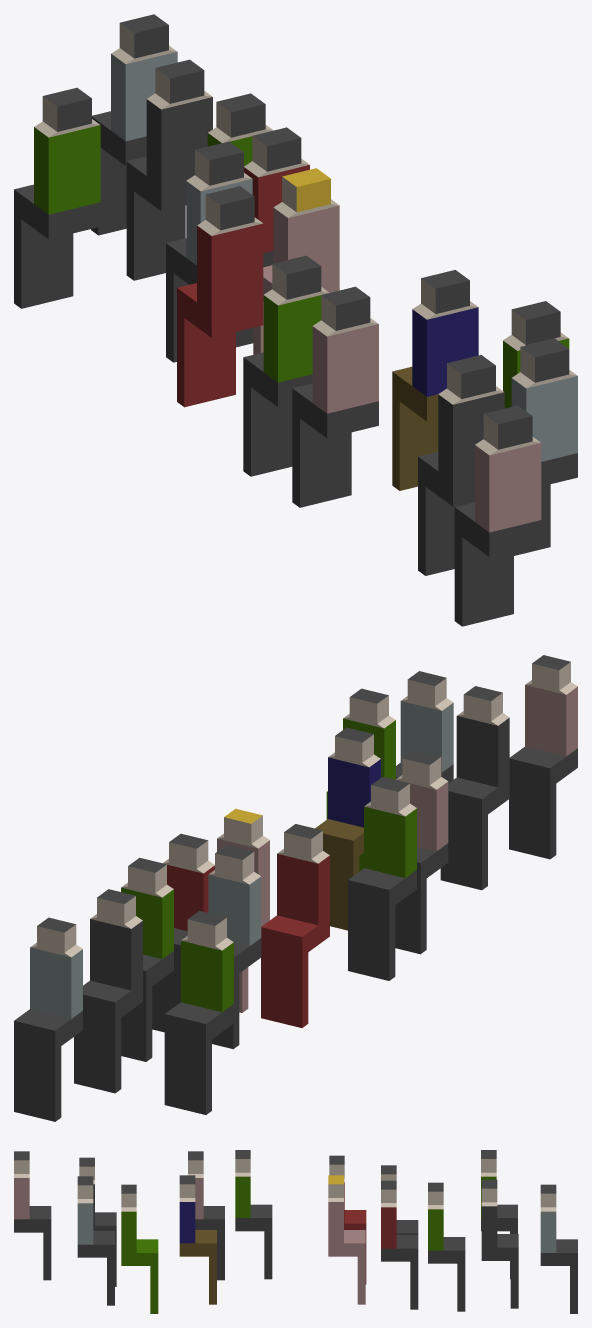
The model's file is tram-passengers.dae.
3 renders of one model, top to bottom at view 1: azimuth 30°, elevation 25°; view 2: azimuth 150°, elevation 25°; view 3: azimuth 270°, elevation 25°, orthographic. The views are drawn at different scales.
Visible parts, largest first — view 1: Plane_015_001, Plane_015, Plane_005_001, Plane_012, Plane_003_001, Plane_005, Plane_008, Plane_003, Plane_007, Plane_011_001, Plane_009, Plane_011 (+3 smaller); view 2: Plane_005_001, Plane_007, Plane_005, Plane_012, Plane_015_001, Plane_003_001, Plane_003, Plane_008, Plane_015, Plane_014, Plane_011, Plane_010 (+3 smaller); view 3: Plane_003_001, Plane_005, Plane_008, Plane_011_001, Plane_007, Plane_006, Plane_009, Plane_010, Plane_014, Plane_015_001, Plane_015, Plane_005_001 (+3 smaller).
Part boxes in pixels (x1,y1,x2,y2): Plane_015_001: [454, 405, 541, 626]; Plane_015: [292, 286, 378, 507]; Plane_005_001: [14, 87, 100, 308]; Plane_012: [177, 186, 263, 407]; Plane_003_001: [126, 59, 212, 280]; Plane_005: [243, 255, 329, 476]; Plane_008: [392, 270, 478, 490]; Plane_003: [418, 355, 504, 575]; Plane_007: [91, 14, 177, 235]; Plane_011_001: [511, 338, 577, 555]; Plane_009: [253, 168, 339, 354]; Plane_011: [166, 141, 252, 362]; Plane_005_001: [164, 911, 233, 1114]; Plane_007: [14, 917, 82, 1121]; Plane_005: [348, 776, 416, 980]; Plane_012: [261, 824, 329, 1027]; Plane_015_001: [509, 655, 577, 859]; Plane_003_001: [74, 889, 142, 1093]; Plane_003: [440, 686, 509, 890]; Plane_008: [315, 727, 380, 930]; Plane_015: [395, 750, 448, 954]; Plane_014: [121, 857, 173, 1061]; Plane_011: [208, 845, 261, 1049]; Plane_010: [152, 833, 214, 1032]; Plane_003_001: [481, 1179, 518, 1308]; Plane_005: [235, 1150, 272, 1279]; Plane_008: [179, 1175, 216, 1304]; Plane_011_001: [77, 1176, 114, 1305]; Plane_007: [540, 1184, 577, 1313]; Plane_006: [121, 1184, 158, 1313]; Plane_009: [328, 1175, 365, 1304]; Plane_010: [381, 1180, 418, 1309]; Plane_014: [428, 1182, 465, 1311]; Plane_015_001: [14, 1151, 51, 1280]; Plane_015: [188, 1151, 224, 1280]; Plane_005_001: [481, 1150, 517, 1279].
Bounding box in the file's own units: 0.8858 × 4.37 × 1.01.
